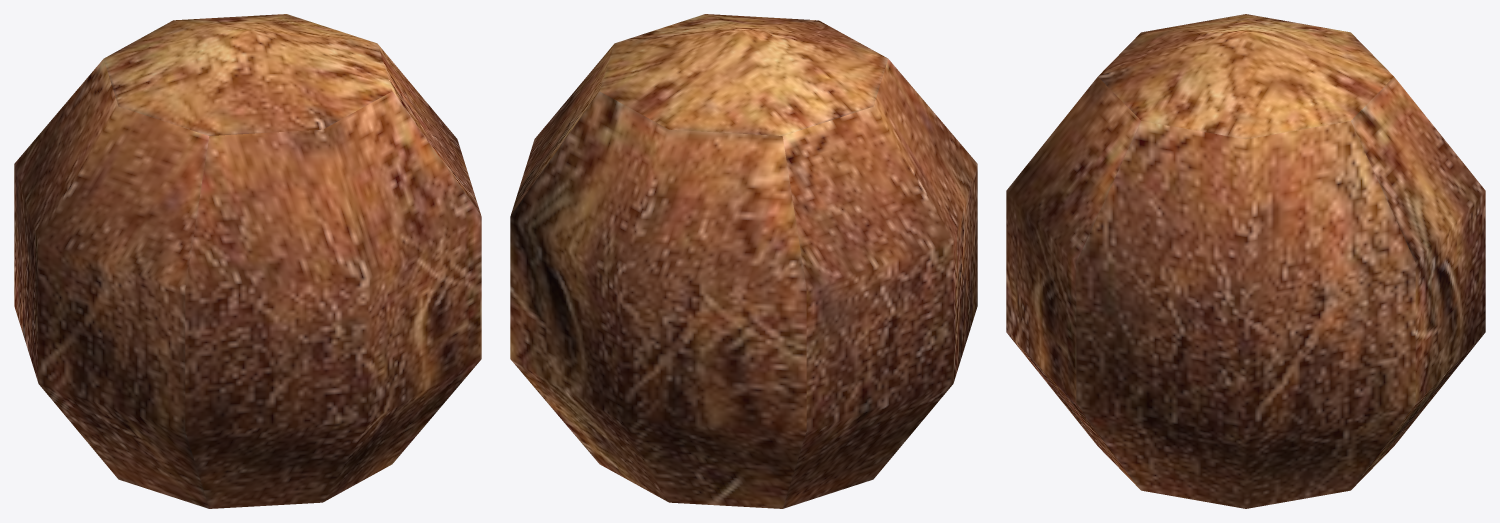
The model's file is Coconut_02.glb.
The picture shows the model from 3 angles, left to right: view 1: azimuth 30°, elevation 25°; view 2: azimuth 150°, elevation 25°; view 3: azimuth 270°, elevation 25°; orthographic projection.
Parts seen in each view (by area): view 1: Coconut_02; view 2: Coconut_02; view 3: Coconut_02.
Part boxes in pixels (x1,y1,x2,y2): Coconut_02: [14, 14, 481, 508]; Coconut_02: [510, 14, 977, 508]; Coconut_02: [1006, 14, 1485, 508].
Size of the model in its own units: 0.207 by 0.2176 by 0.207.
Materials: 1 (1 with a texture image).
